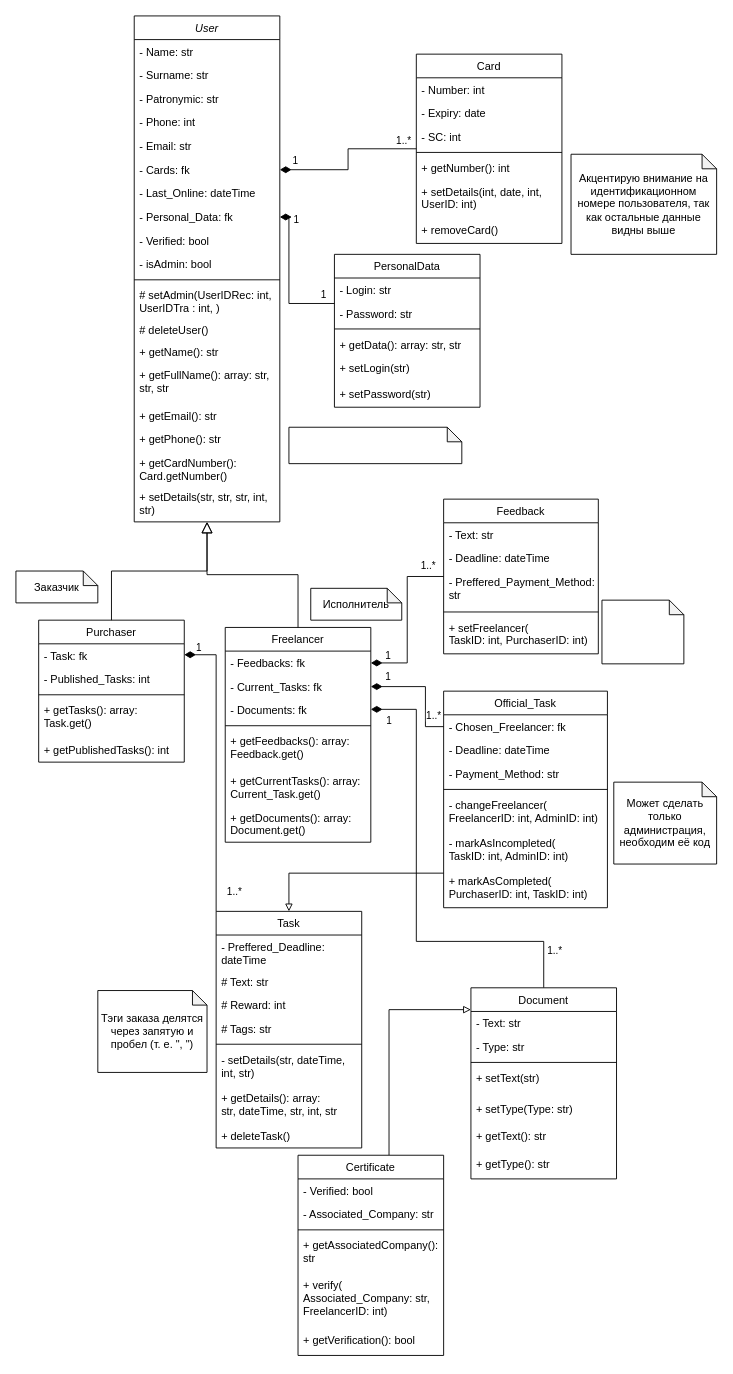
This 733x1374 diagram has some shape labels left out. Here are the shapes that lost their labels. From the top down, the centre of each, then its label:
At [375,445]: "Имя. фамилия, отчество, телефон, электронная почта".
At [642,631]: "Удаляется при выборе фрилансера".
